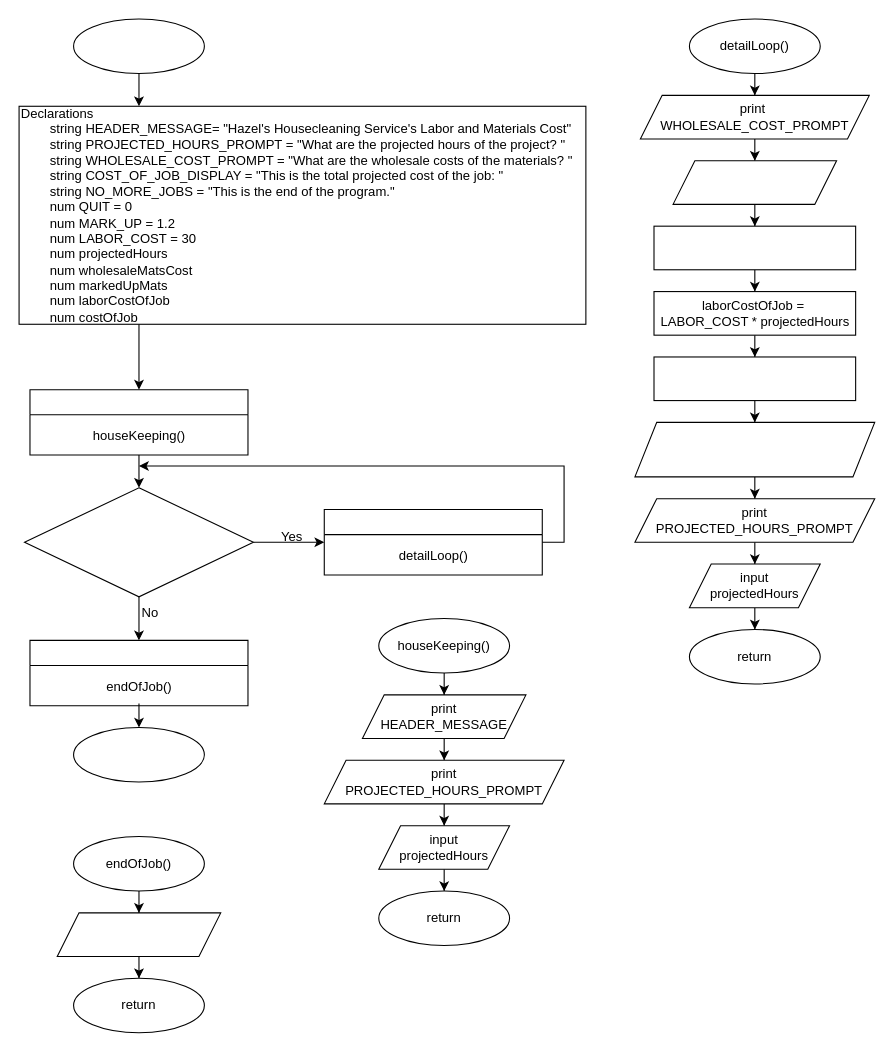
The diagram is 894 pixels wide and 1052 high, and some of its shapes have lost their labels. Each missing label, with the centre of its shape:
begin: point 138,46
costOfJob = laborCostOfJob + markedUpMats: point 754,378
end: point 138,754
input wholesaleMatsCost: point 754,182
markedUpMats = wholesaleMatsCost * MARK_UP: point 754,247
print COST_OF_JOB_DISPLAY + "$" + costOfJob: point 754,449
print NO_MORE_JOBS: point 138,934
projectedHours not equal to QUIT?: point 138,542
